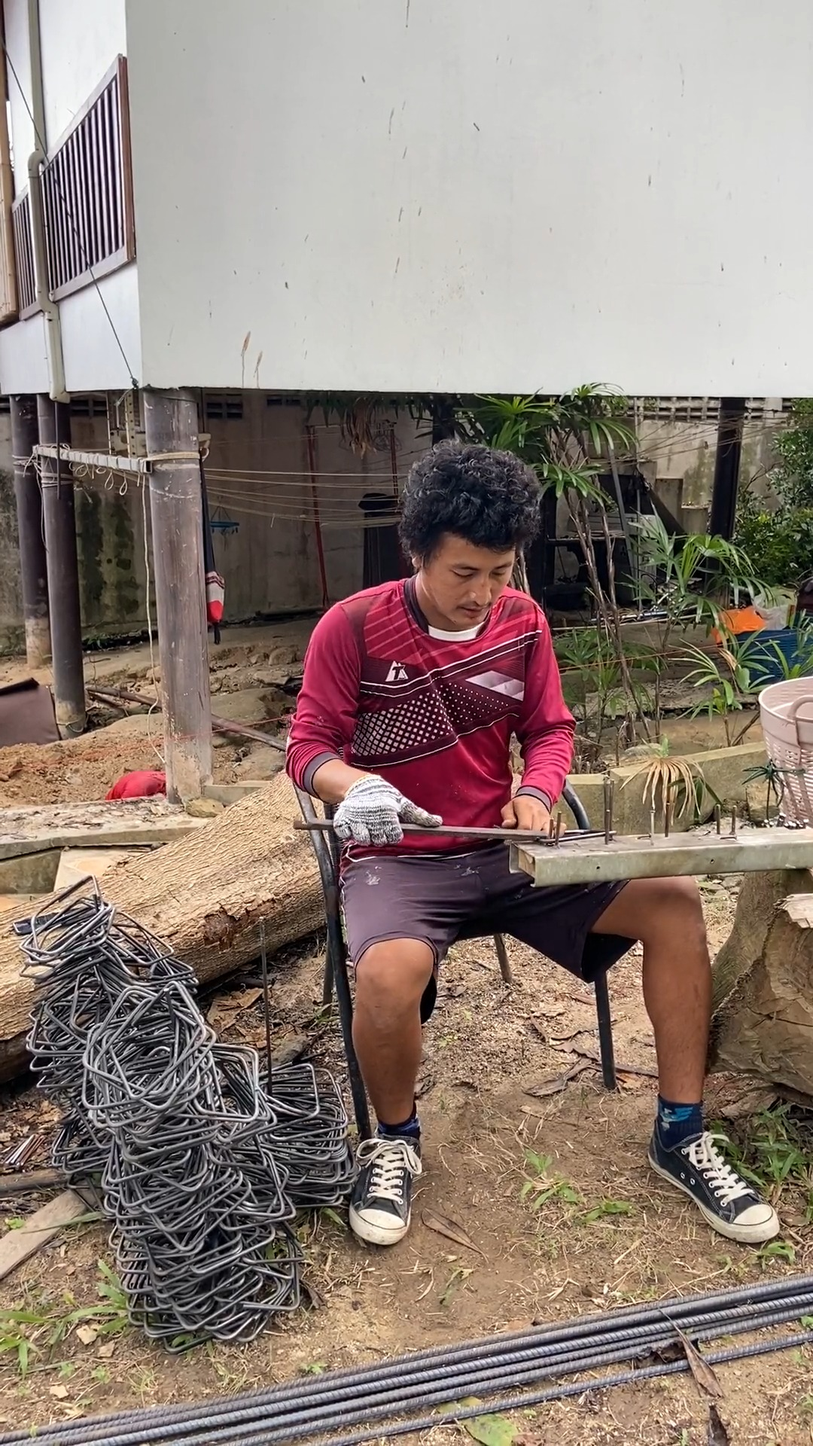No-gloves: (492, 786, 594, 842)
gloves: (326, 761, 442, 867)
